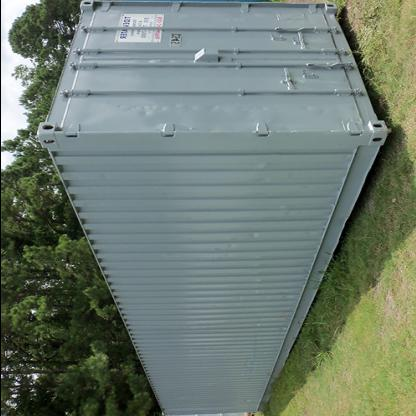Damage: (182, 96, 226, 116), (242, 271, 266, 297), (136, 100, 168, 118), (245, 228, 266, 252)
